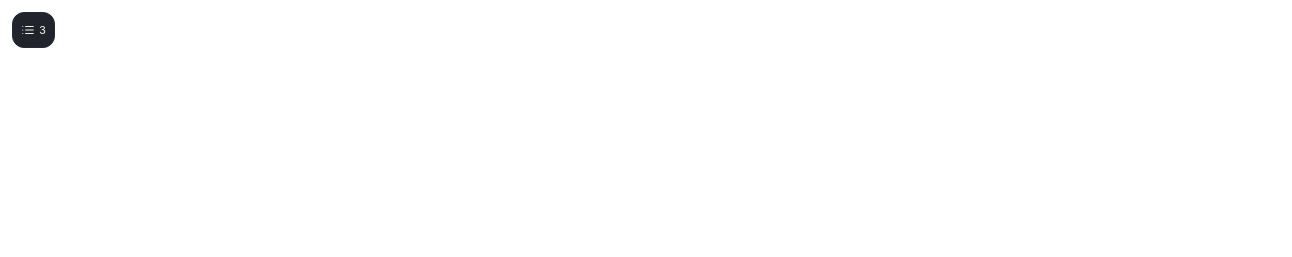
Test case: NotePicker › lista notas com trecho, deal e filtra pelo conteúdo
Click the button named "Buscar notas (3)" at (34, 30), box [12,12,55,48]
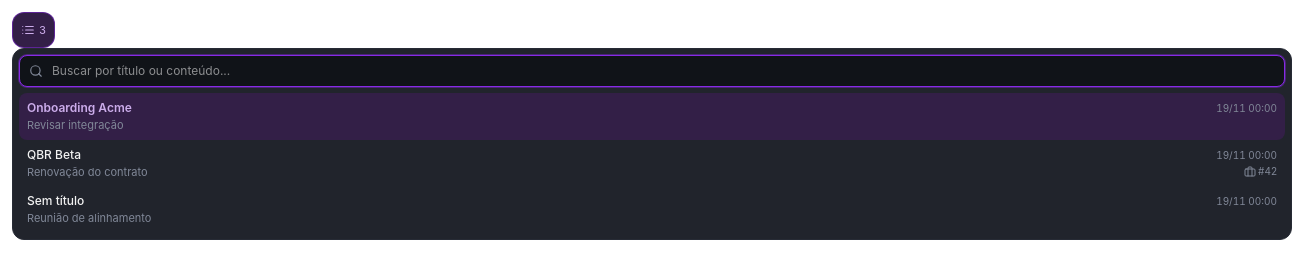
expect the number of options is 3: met, box [19,93,1285,140]; [19,140,1285,186]; [19,186,1285,232]
expect the text "Sem título" is shown: met, box [27,193,84,208]
expect the text "Reunião de alinhamento" is shown: met, box [27,211,151,225]
Type "contrato" into the dropdown labelled "Buscar por título ou conteúdo" at (652, 71), box [19,55,1285,87]
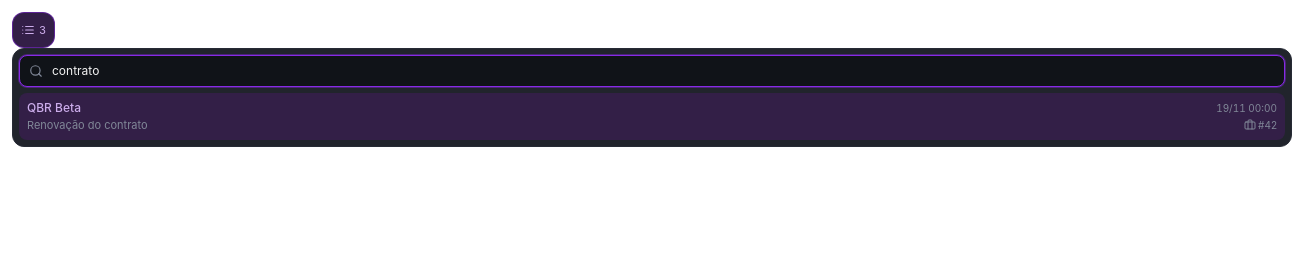
expect the number of options is 1: met
Click the option "QBR Beta 19/11 00:00 Renovação do contrato #42" at (54, 108), box [19,93,1285,140]
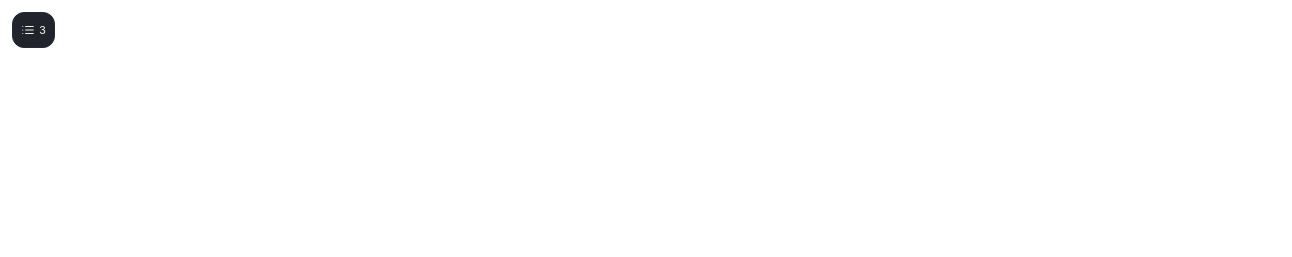
expect the dropdown is gone: met
